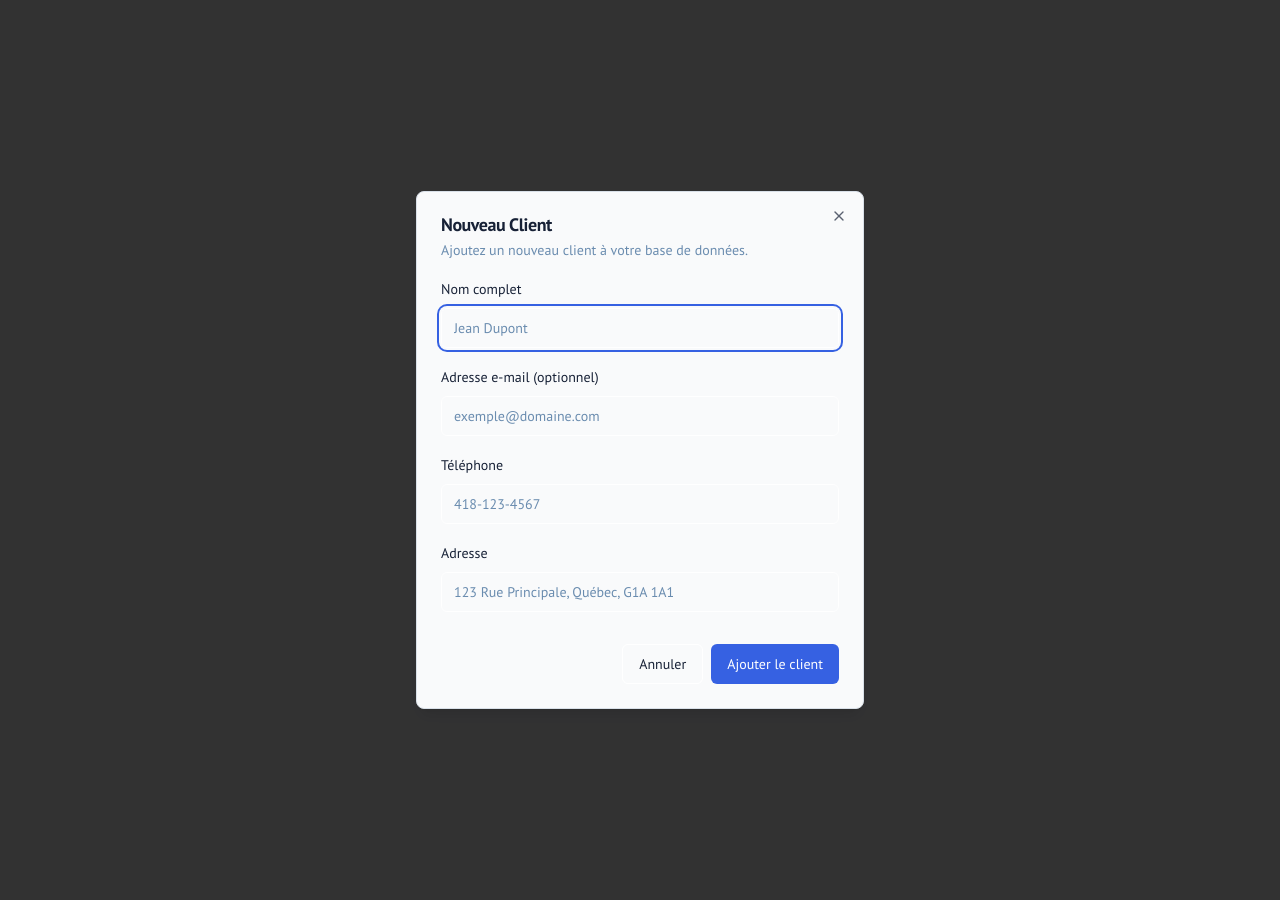
Test: AddClientModal › shows validation errors for invalid input
Submit form with empty fields
Click the button "Ajouter le client".
click(775, 664)  # box [711, 644, 839, 684]
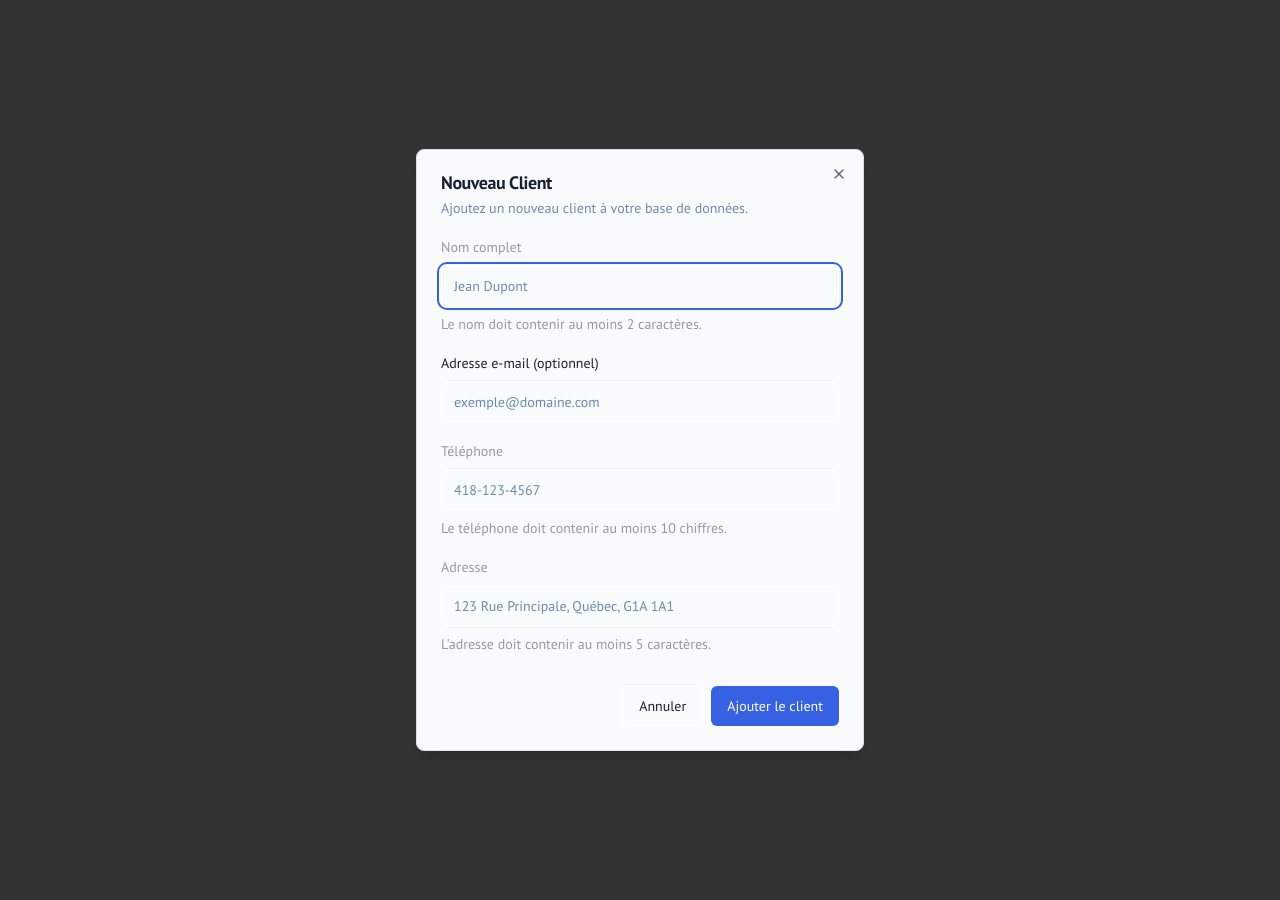
Result: the text "Le nom doit contenir au moins 2 caractères." is shown at [441, 315, 702, 333]
Result: the text "Le téléphone doit contenir au moins 10 chiffres." is shown at [441, 519, 727, 537]
Result: the text "L'adresse doit contenir au moins 5 caractères." is shown at [441, 635, 711, 653]
